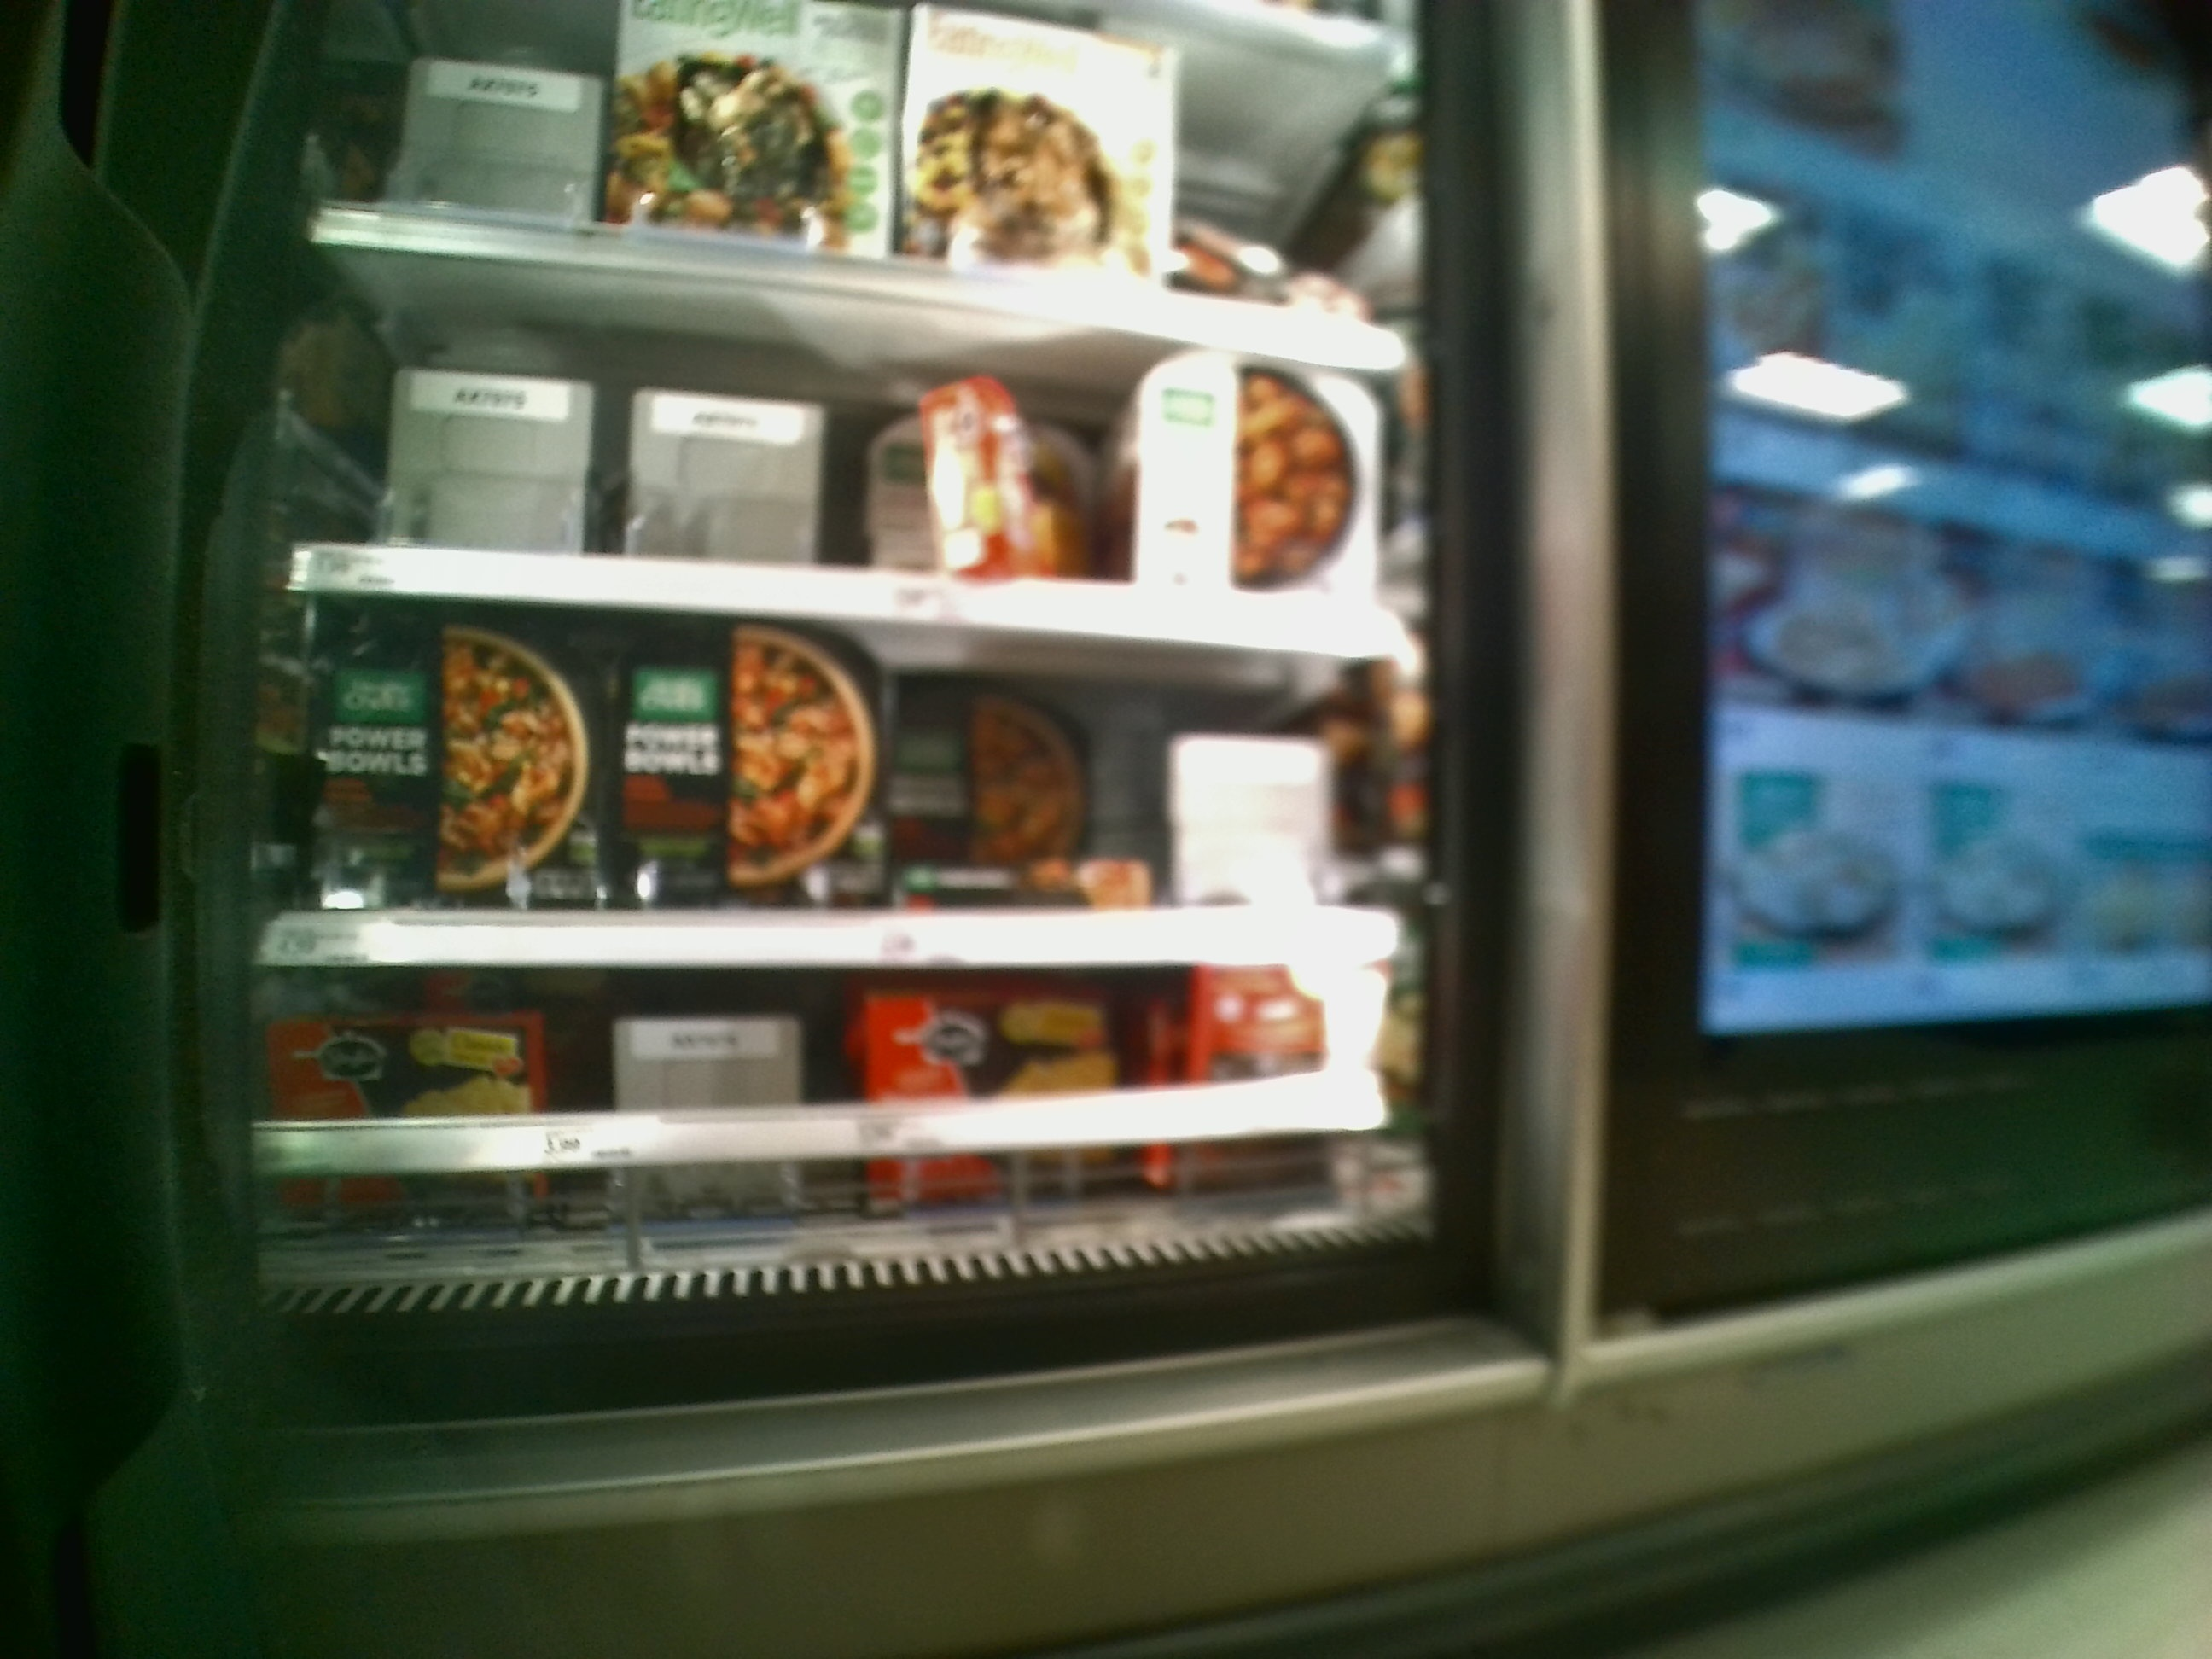shelf: (289, 232, 1411, 664), (258, 601, 1474, 972), (254, 969, 1458, 1298)
